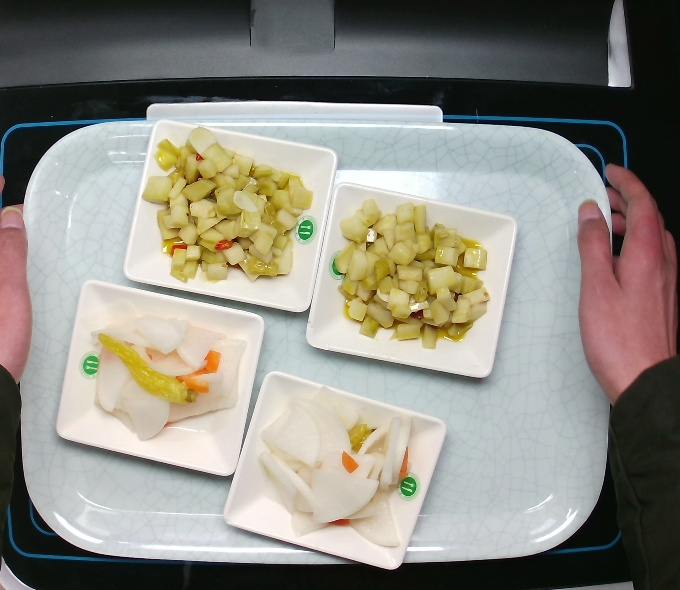wcq-LuLuoBo: (244, 377, 436, 546), (80, 298, 245, 444)
wcq-TangCuOu: (127, 120, 314, 285), (329, 191, 499, 348)
